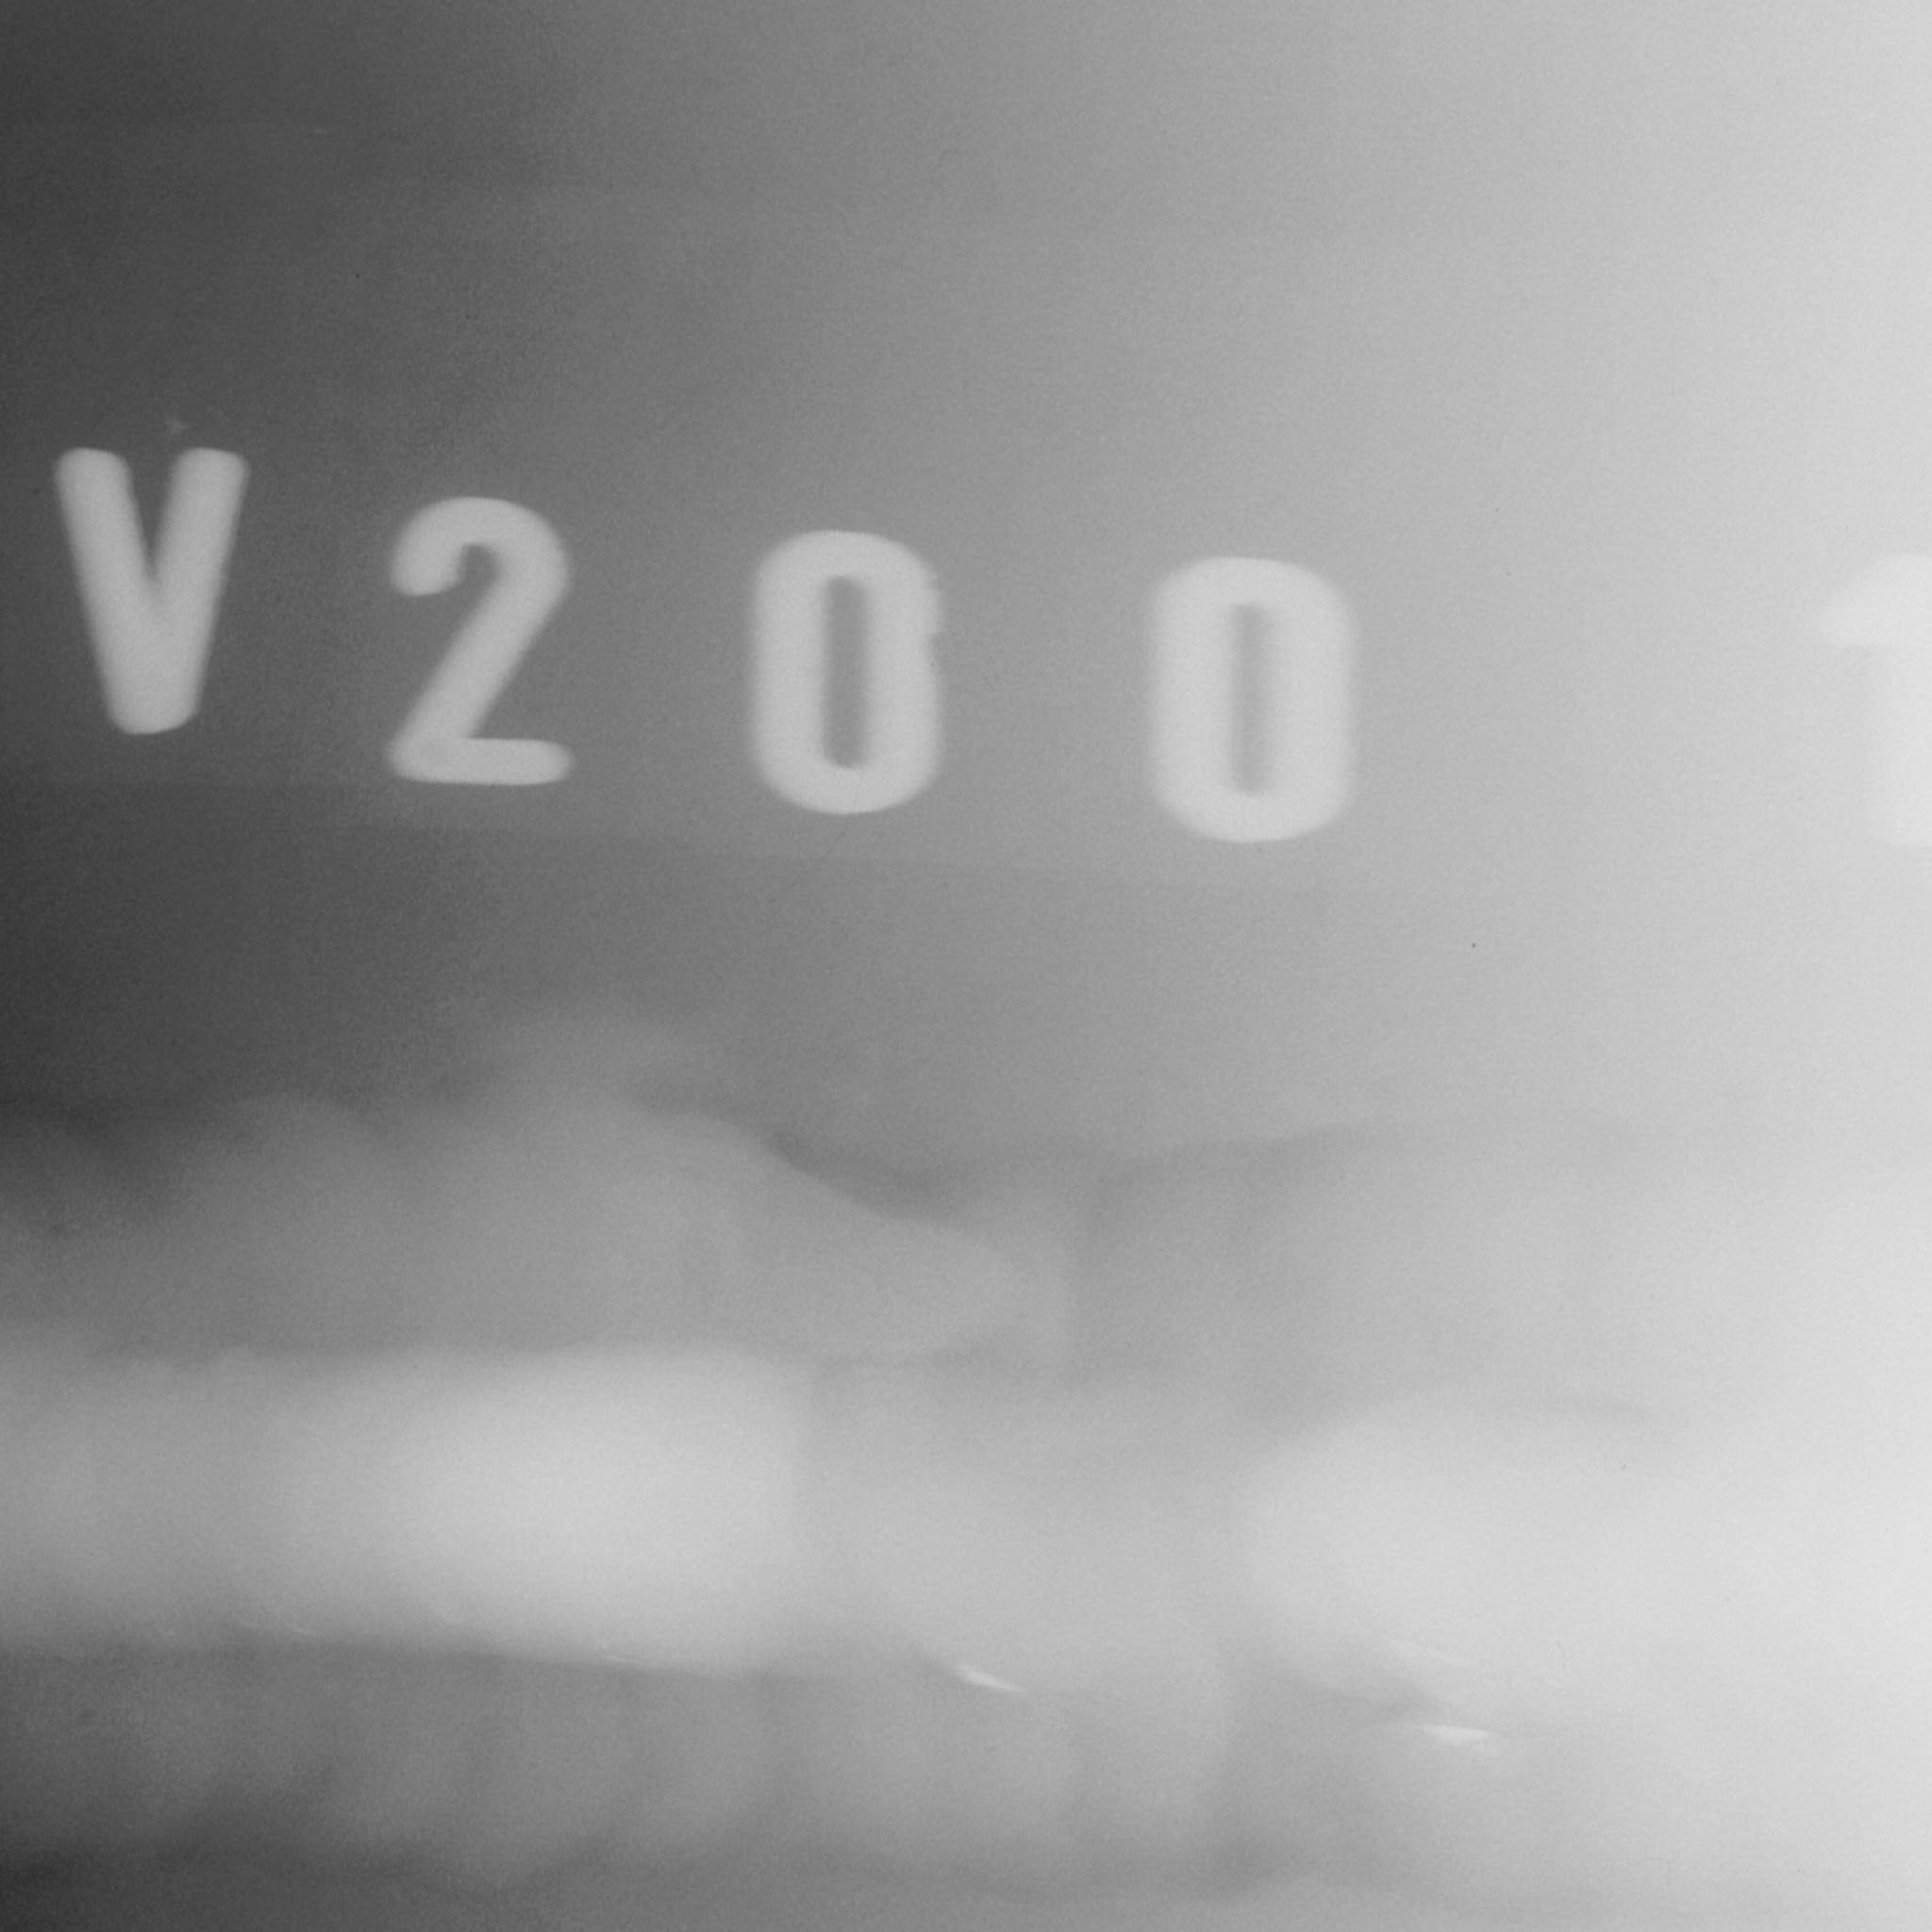PE: (0, 1313, 1884, 1718)
